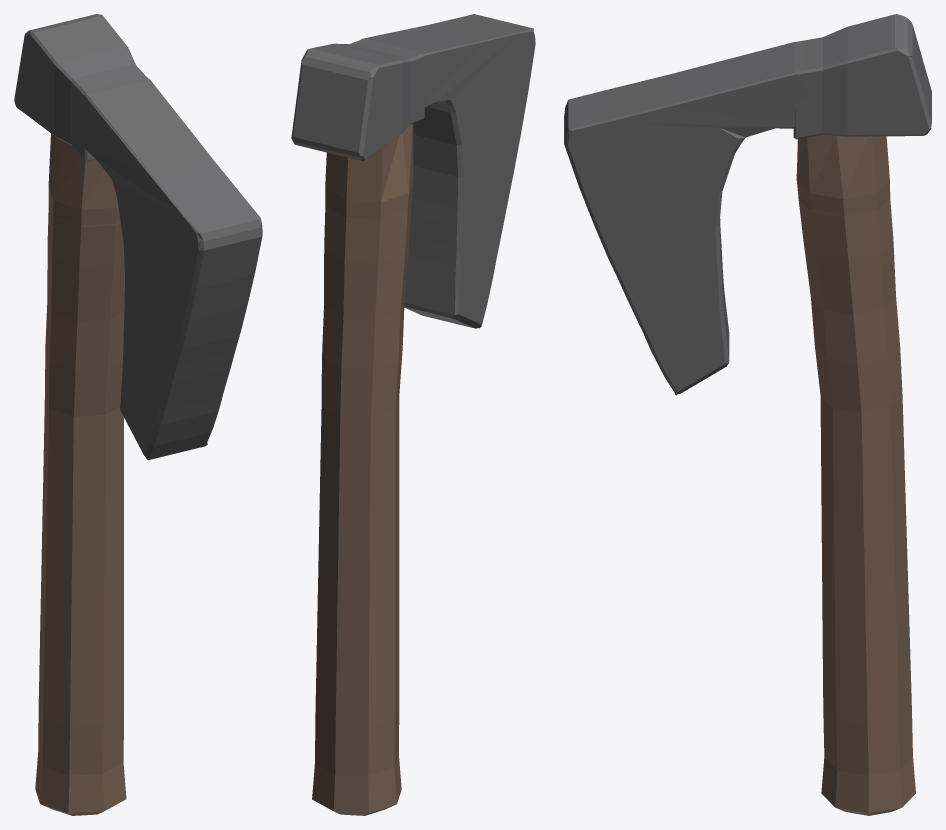
File: ax(tool).fbx
3 renders of one model, left to right at view 1: azimuth 30°, elevation 25°; view 2: azimuth 150°, elevation 25°; view 3: azimuth 270°, elevation 25°, orthographic. The views are drawn at different scales.
Parts seen in each view (by area): view 1: Handle, Cube_1, Cube; view 2: Handle, Cube_1, Cube; view 3: Handle, Cube_1, Cube.
Part boxes in pixels (x1,y1,x2,y2): Handle: (35, 133, 126, 815); Cube_1: (71, 78, 262, 460); Cube: (14, 14, 148, 160); Handle: (312, 124, 413, 815); Cube_1: (361, 14, 535, 328); Cube: (291, 38, 424, 161); Handle: (796, 135, 915, 815); Cube_1: (564, 42, 823, 395); Cube: (793, 14, 931, 139).
Bounding box in the file's own units: 7.74 × 69.55 × 30.06.
